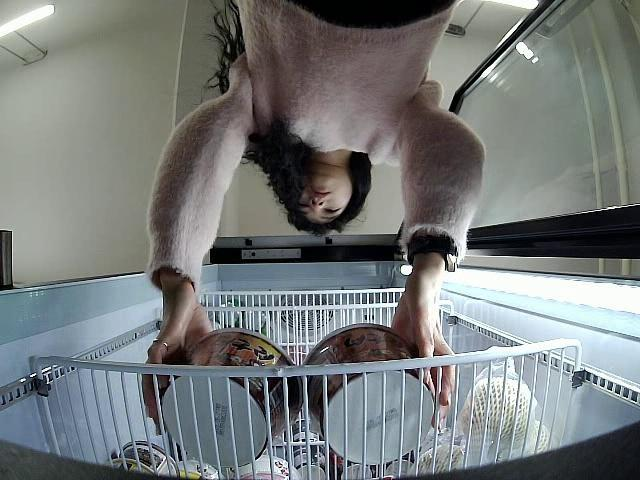05_nuguri_L: (157, 329, 303, 468), (309, 325, 440, 467)
